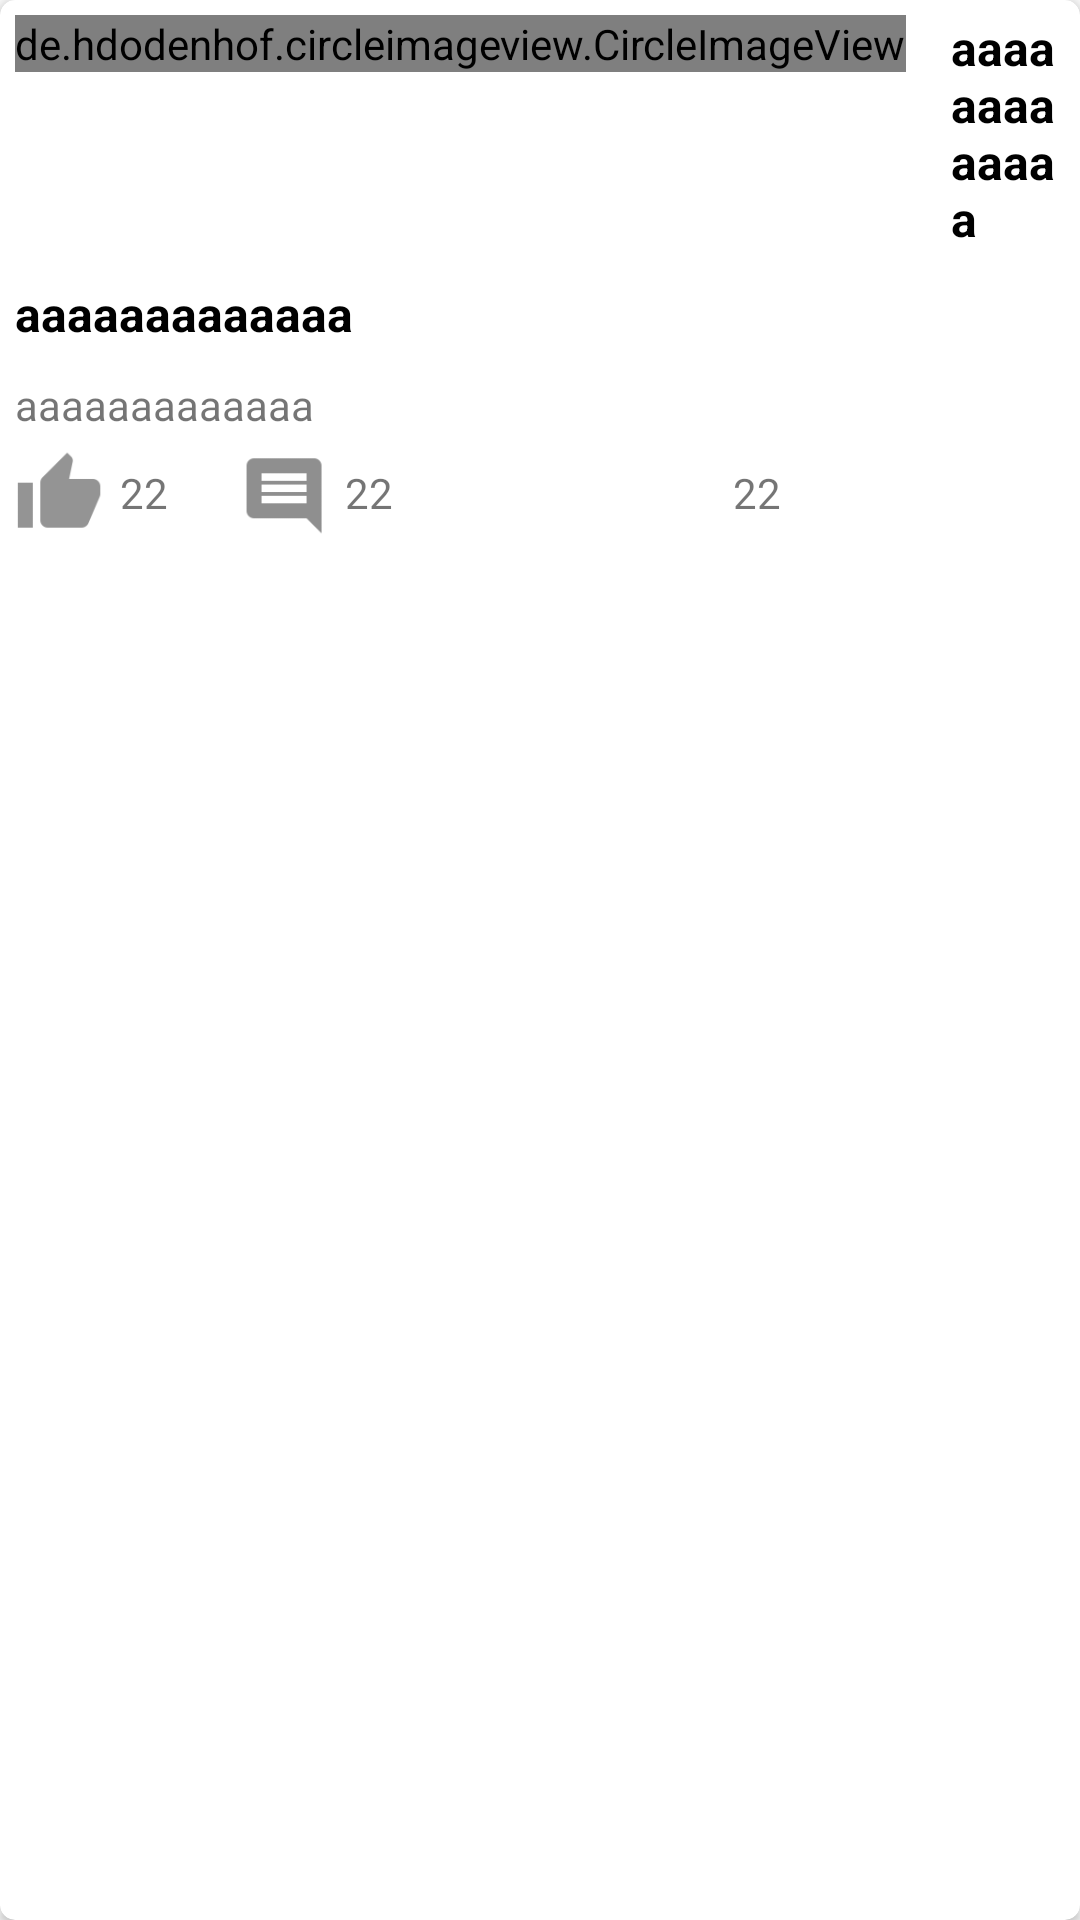

Point at icon controls on the screen. Image size 1080px×1920px, points as point (x, y).
comment: point (284, 495)
